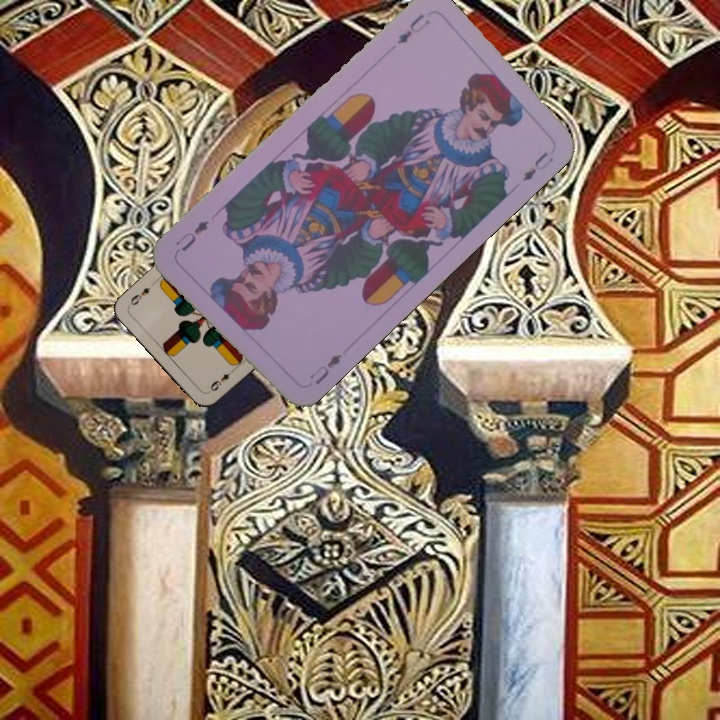E9: (205, 364, 238, 395)
EU: (305, 349, 345, 388), (393, 10, 433, 48)
